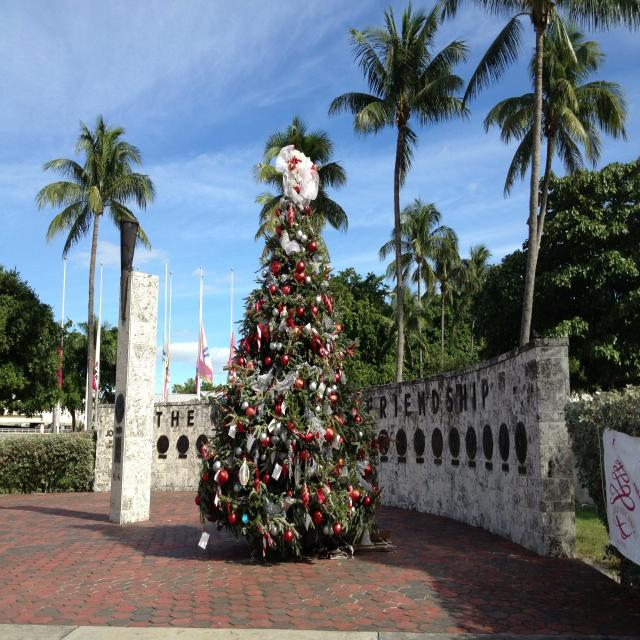Christmas-tree: (198, 202, 389, 546)
